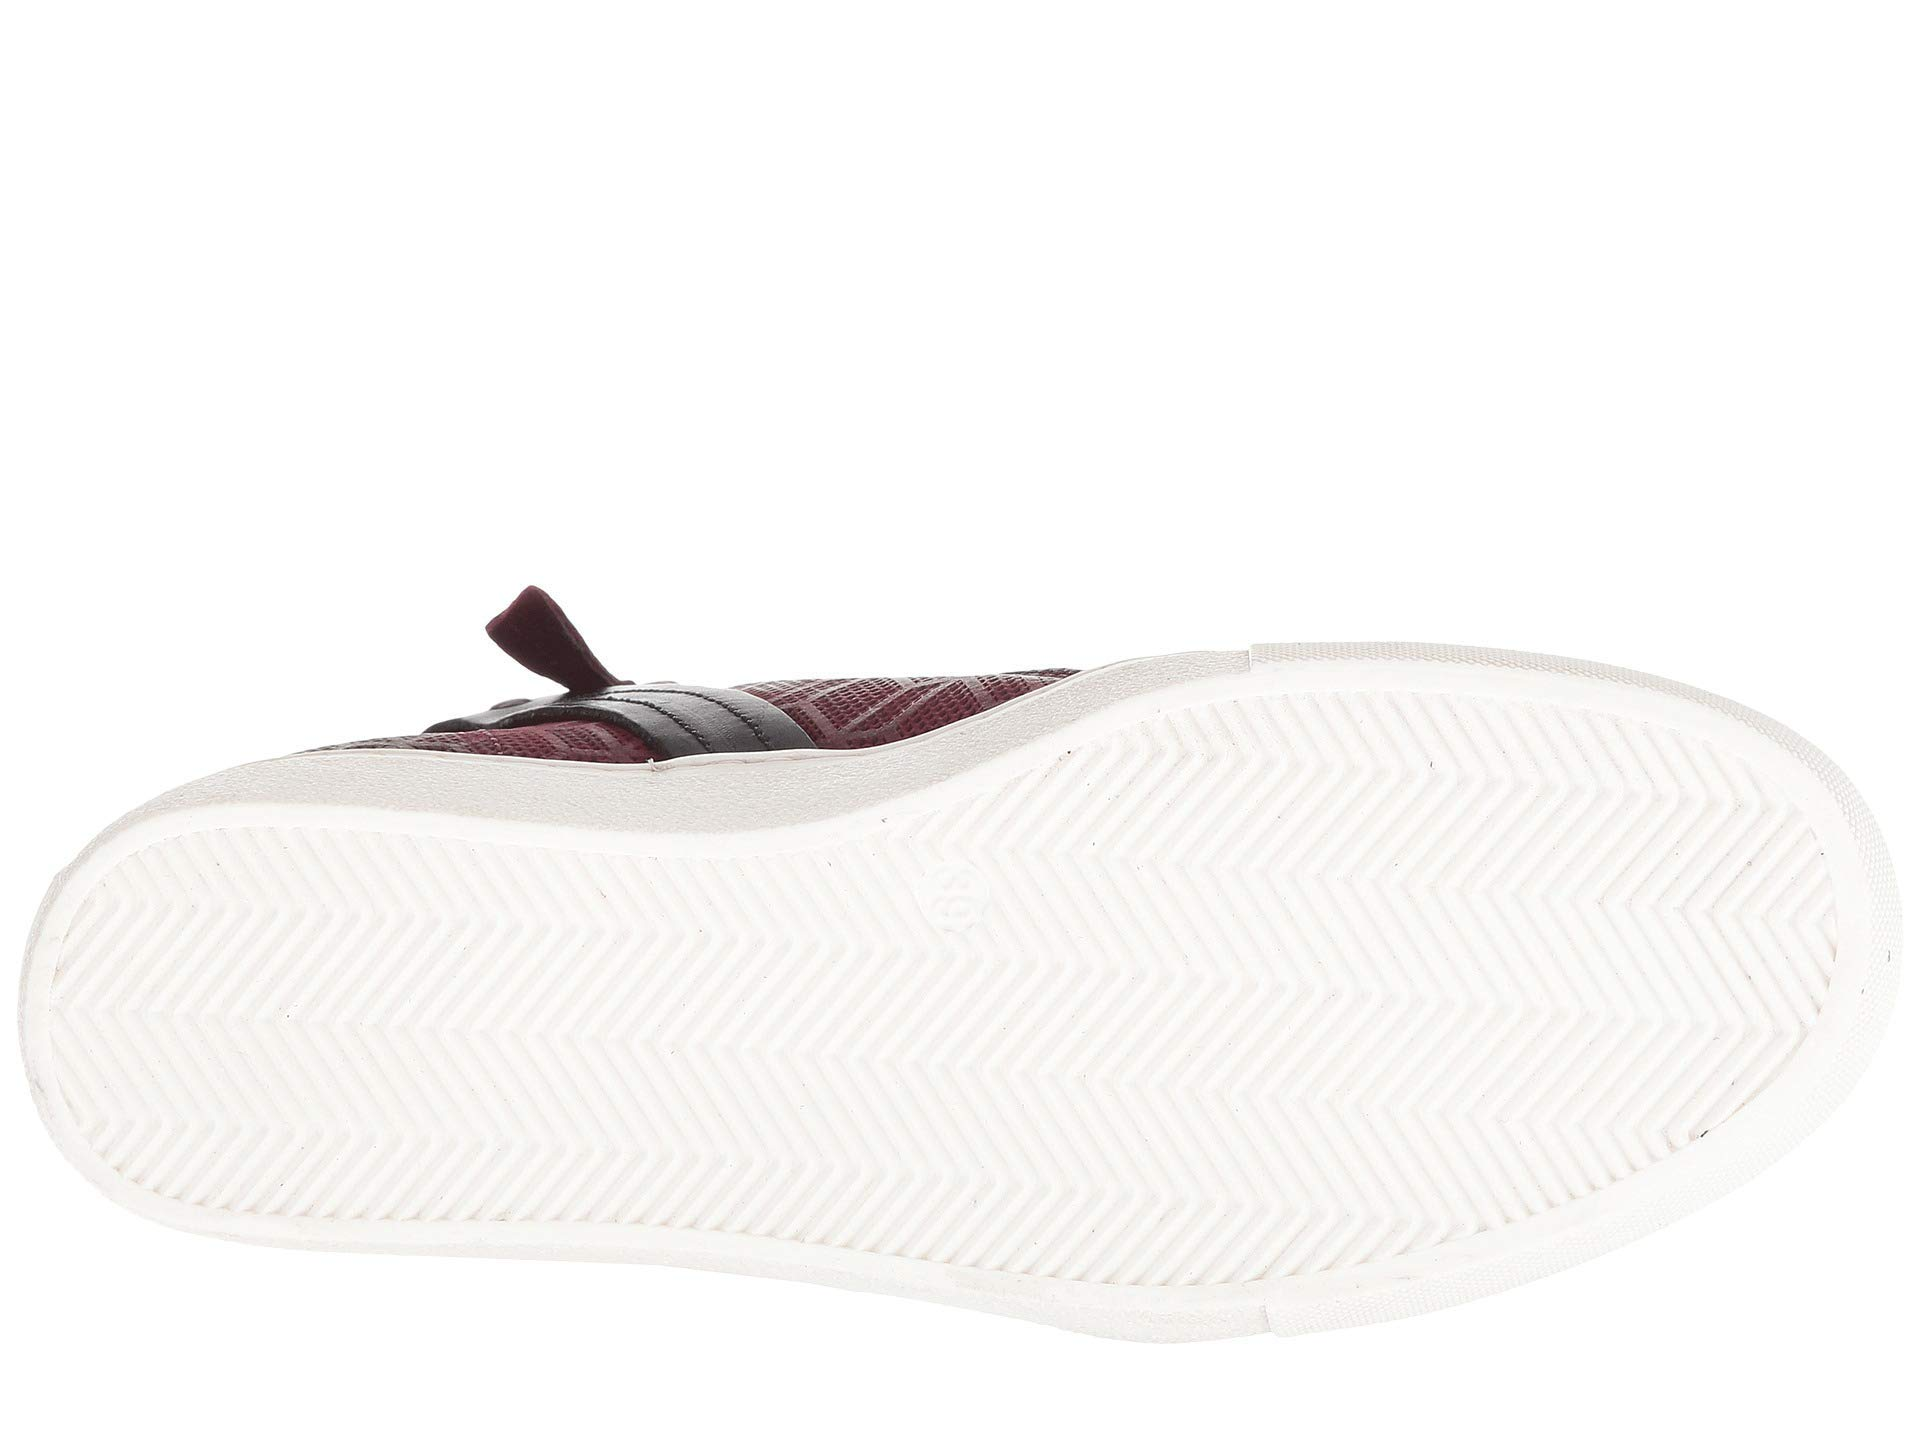chevron: (1132, 753, 1595, 1171)
